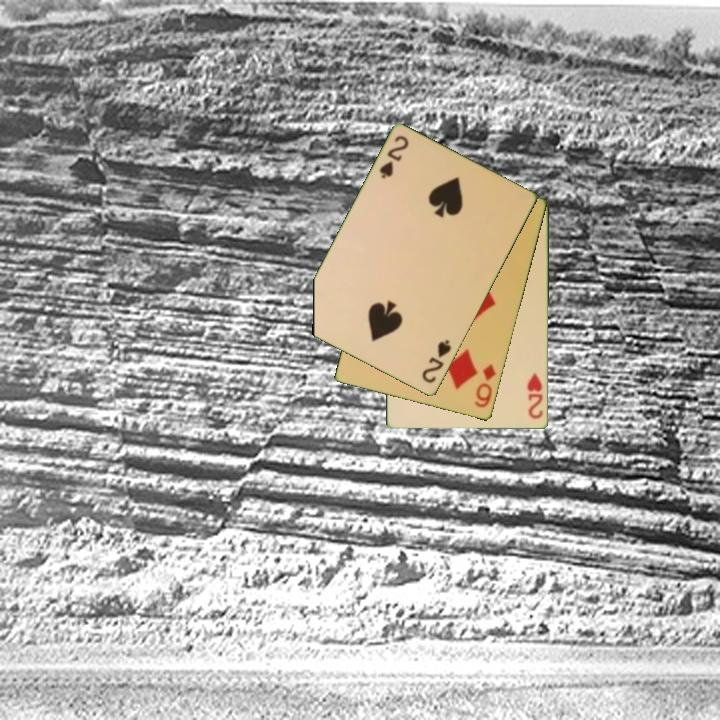2h: (524, 370, 546, 422)
2s: (418, 336, 454, 387), (376, 132, 412, 182)
6d: (471, 361, 499, 411)
